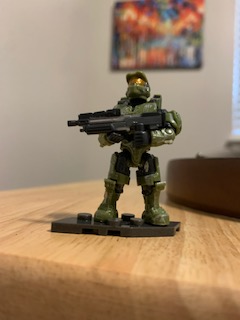chief: (93, 69, 182, 225)
rifle: (65, 109, 168, 145)
spartan: (91, 67, 180, 223)
